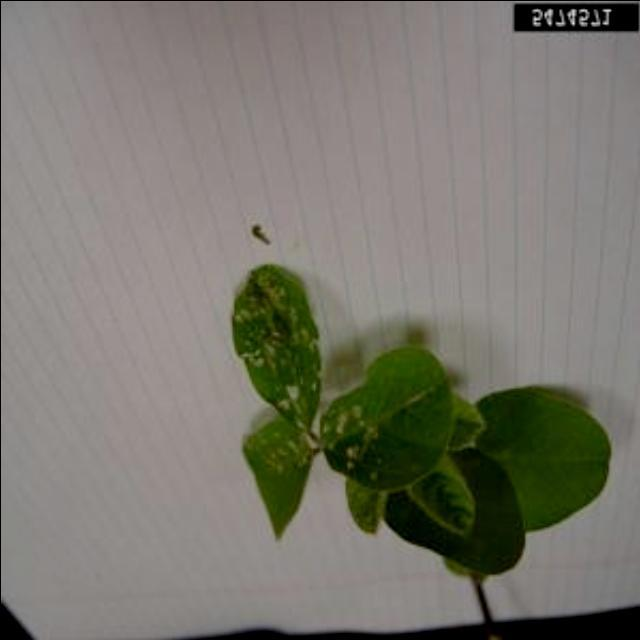Beet armyworm: (242, 215, 280, 253)
